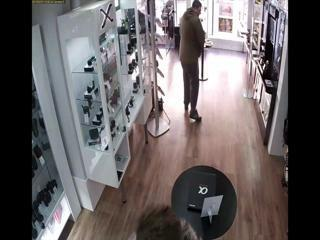Normal: (56, 0, 135, 193), (178, 0, 210, 123)
